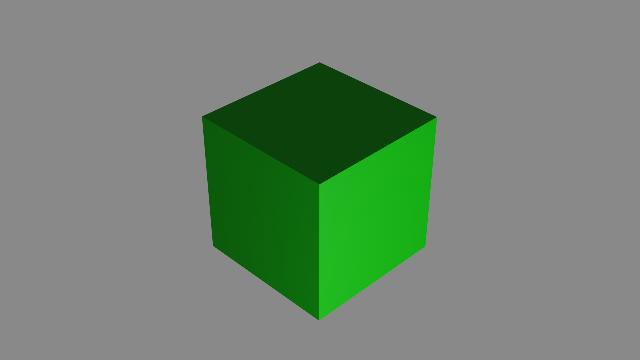Cube: (193, 59, 451, 328)
